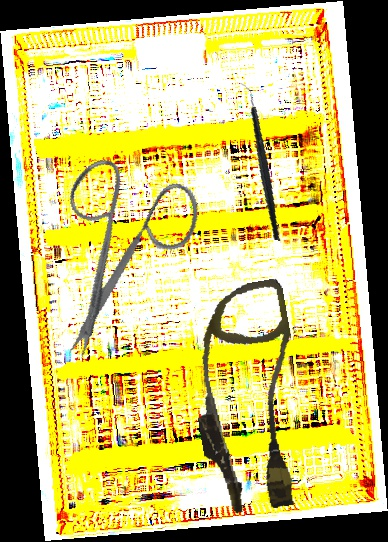Cannula: (176, 277, 320, 519)
Chopper: (212, 82, 307, 241)
Iris Scissors: (16, 136, 232, 365)
